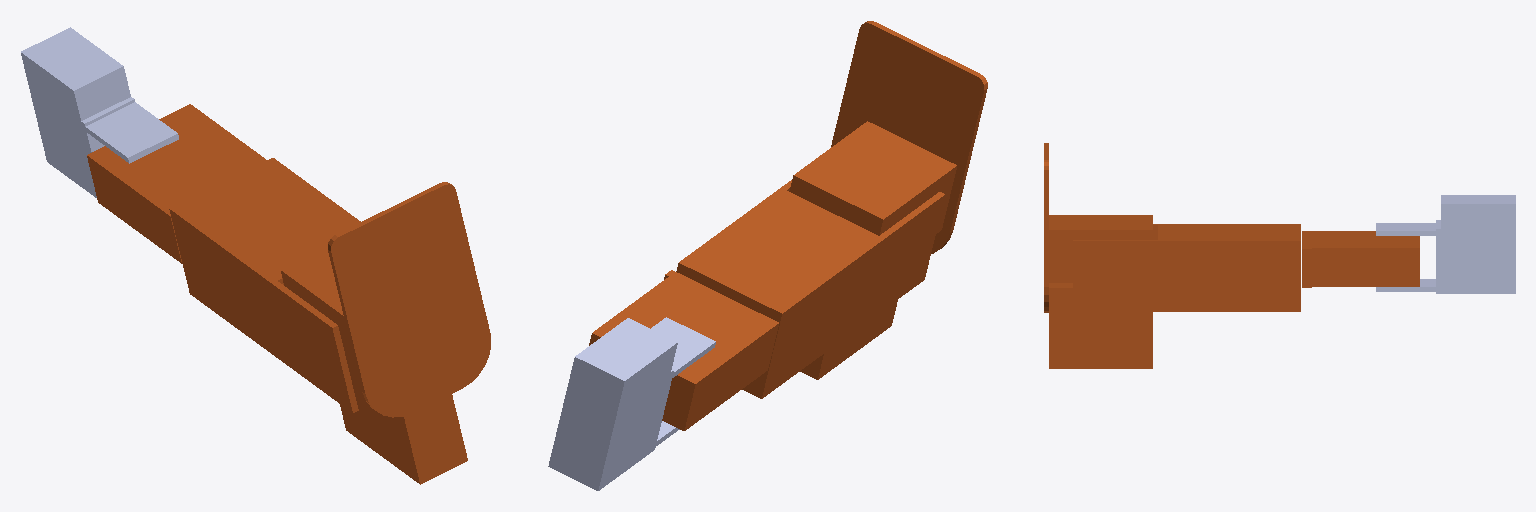
robot.urdf — Assem10_collision:
<?xml version="1.0" encoding="utf-8"?>
<!-- This URDF was automatically created by SolidWorks to URDF Exporter! Originally created by [author] ([email redacted]) 
     Commit Version: 1.6.0-4-g7f85cfe  Build Version: 1.6.7995.38578
     For more information, please see http://wiki.ros.org/sw_urdf_exporter -->
<robot
  name="Assem10_collision">
  <link
    name="base_link">
    <inertial>
      <origin
        xyz="-0.00605009249408056 0.264264543441302 0.0389219155545338"
        rpy="0 0 0" />
      <mass
        value="0.19587170304" />
      <inertia
        ixx="0.000117298247952399"
        ixy="1.39712888892882E-06"
        ixz="1.00957515737441E-05"
        iyy="6.67796077184977E-05"
        iyz="-5.8540741610949E-06"
        izz="7.74057409010267E-05" />
    </inertial>
    <visual>
      <origin
        xyz="0 0 0"
        rpy="0 0 0" />
      <geometry>
        <mesh
          filename="package://Assem10_collision/meshes/base_link.STL" />
      </geometry>
      <material
        name="">
        <color
          rgba="0.792156862745098 0.819607843137255 0.933333333333333 1" />
      </material>
    </visual>
    <collision>
      <origin
        xyz="0 0 0"
        rpy="0 0 0" />
      <geometry>
        <mesh
          filename="package://Assem10_collision/meshes/base_link.STL" />
      </geometry>
    </collision>
  </link>
  <link
    name="hip_Link">
    <inertial>
      <origin
        xyz="-0.00114557605052779 0.0220625073399884 0.00695392485978443"
        rpy="0 0 0" />
      <mass
        value="0.19587170304" />
      <inertia
        ixx="0.000117298247952399"
        ixy="1.39712888892882E-06"
        ixz="1.00957515737441E-05"
        iyy="6.67796077184977E-05"
        iyz="-5.85407416109491E-06"
        izz="7.74057409010267E-05" />
    </inertial>
    <visual>
      <origin
        xyz="0 0 0"
        rpy="0 0 0" />
      <geometry>
        <mesh
          filename="package://Assem10_collision/meshes/hip_Link.STL" />
      </geometry>
      <material
        name="">
        <color
          rgba="0.792156862745098 0.819607843137255 0.933333333333333 1" />
      </material>
    </visual>
    <collision>
      <origin
        xyz="0 0 0"
        rpy="0 0 0" />
      <geometry>
        <mesh
          filename="package://Assem10_collision/meshes/hip_Link.STL" />
      </geometry>
    </collision>
  </link>
  <joint
    name="hip_joint"
    type="revolute">
    <origin
      xyz="-0.00490451644355278 0.242202036101313 0.0319679906947494"
      rpy="0 0 0" />
    <parent
      link="base_link" />
    <child
      link="hip_Link" />
    <axis
      xyz="0 1 0" />
    <limit
      lower="-1.571"
      upper="1.571"
      effort="0.055"
      velocity="5.82" />
  </joint>
  <link
    name="thigh_Link">
    <inertial>
      <origin
        xyz="0.0261495186388976 -0.0198067217703598 0.00627730656543416"
        rpy="0 0 0" />
      <mass
        value="0.0994035000000124" />
      <inertia
        ixx="5.105531110474E-05"
        ixy="2.7455668402762E-07"
        ixz="-4.32165853073013E-06"
        iyy="2.94940062908488E-05"
        iyz="6.55254894874466E-08"
        izz="6.81319786664833E-05" />
    </inertial>
    <visual>
      <origin
        xyz="0 0 0"
        rpy="0 0 0" />
      <geometry>
        <mesh
          filename="package://Assem10_collision/meshes/thigh_Link.STL" />
      </geometry>
      <material
        name="">
        <color
          rgba="0.76078431372549 0.4 0.180392156862745 0.3" />
      </material>
    </visual>
    <collision>
      <origin
        xyz="0 0 0"
        rpy="0 0 0" />
      <geometry>
        <mesh
          filename="package://Assem10_collision/meshes/thigh_Link.STL" />
      </geometry>
    </collision>
  </link>
  <joint
    name="thigh_joint"
    type="revolute">
    <origin
      xyz="-0.018837938117524 -0.0273400000000003 -0.00447732756489142"
      rpy="0 0 0" />
    <parent
      link="hip_Link" />
    <child
      link="thigh_Link" />
    <axis
      xyz="0.97268246579192 0 0.232139657837584" />
    <limit
      lower="0"
      upper="1.0472"
      effort="0.055"
      velocity="5.82" />
  </joint>
  <link
    name="leg_Link">
    <inertial>
      <origin
        xyz="-0.0251596475541772 -0.0123177897353391 -0.0117160764491841"
        rpy="0 0 0" />
      <mass
        value="0.232589231399243" />
      <inertia
        ixx="0.000259439788496201"
        ixy="-3.07521141652448E-19"
        ixz="-5.2226417020026E-06"
        iyy="0.000101628555227277"
        iyz="-1.15095289138836E-19"
        izz="0.0002800766147297" />
    </inertial>
    <visual>
      <origin
        xyz="0 0 0"
        rpy="0 0 0" />
      <geometry>
        <mesh
          filename="package://Assem10_collision/meshes/leg_Link.STL" />
      </geometry>
      <material
        name="">
        <color
          rgba="0.76078431372549 0.4 0.180392156862745 0.3" />
      </material>
    </visual>
    <collision>
      <origin
        xyz="0 0 0"
        rpy="0 0 0" />
      <geometry>
        <mesh
          filename="package://Assem10_collision/meshes/leg_Link.STL" />
      </geometry>
    </collision>
  </link>
  <joint
    name="leg_joint"
    type="revolute">
    <origin
      xyz="0.0525166155100644 -0.0941100000000001 0.0125700578600222"
      rpy="0 0 0" />
    <parent
      link="thigh_Link" />
    <child
      link="leg_Link" />
    <axis
      xyz="0.97268246579192 0 0.232139657837584" />
    <limit
      lower="-0.523"
      upper="1.0472"
      effort="0.055"
      velocity="5.82" />
  </joint>
  <link
    name="foot1_Link">
    <inertial>
      <origin
        xyz="-0.0258158892683436 -0.00101344838147411 0.0155562121129952"
        rpy="0 0 0" />
      <mass
        value="0.122380765316662" />
      <inertia
        ixx="8.34219271731225E-05"
        ixy="2.72963463102564E-06"
        ixz="-1.17649912220833E-06"
        iyy="5.41780744582801E-05"
        iyz="7.98072725955848E-06"
        izz="8.0647826410963E-05" />
    </inertial>
    <visual>
      <origin
        xyz="0 0 0"
        rpy="0 0 0" />
      <geometry>
        <mesh
          filename="package://Assem10_collision/meshes/foot1_Link.STL" />
      </geometry>
      <material
        name="">
        <color
          rgba="0.76078431372549 0.4 0.180392156862745 0.3" />
      </material>
    </visual>
    <collision>
      <origin
        xyz="0 0 0"
        rpy="0 0 0" />
      <geometry>
        <mesh
          filename="package://Assem10_collision/meshes/foot1_Link.STL" />
      </geometry>
    </collision>
  </link>
  <joint
    name="foot1_joint"
    type="revolute">
    <origin
      xyz="0.00157547080421877 -0.0927520361013132 -0.00660134007651164"
      rpy="0 -0.234276857085508 0" />
    <parent
      link="leg_Link" />
    <child
      link="foot1_Link" />
    <axis
      xyz="1 0 0" />
    <limit
      lower="0"
      upper="0.523"
      effort="0.055"
      velocity="5.83" />
  </joint>
  <link
    name="foot2_Link">
    <inertial>
      <origin
        xyz="0.00292714476125744 0.00425203610131364 -0.0137082317087299"
        rpy="0 0 0" />
      <mass
        value="0.0845000000000001" />
      <inertia
        ixx="4.80027962059938E-05"
        ixy="-3.22815496642855E-20"
        ixz="3.30560060466208E-06"
        iyy="2.34417083333333E-05"
        iyz="-9.18162999687482E-20"
        izz="3.49409954606732E-05" />
    </inertial>
    <visual>
      <origin
        xyz="0 0 0"
        rpy="0 0 0" />
      <geometry>
        <mesh
          filename="package://Assem10_collision/meshes/foot2_Link.STL" />
      </geometry>
      <material
        name="">
        <color
          rgba="0.76078431372549 0.4 0.180392156862745 0.3" />
      </material>
    </visual>
    <collision>
      <origin
        xyz="0 0 0"
        rpy="0 0 0" />
      <geometry>
        <mesh
          filename="package://Assem10_collision/meshes/foot2_Link.STL" />
      </geometry>
    </collision>
  </link>
  <joint
    name="foot2_joint"
    type="revolute">
    <origin
      xyz="-0.017637305017043 -0.092752036101313 -0.0322623837192966"
      rpy="0 0 0" />
    <parent
      link="leg_Link" />
    <child
      link="foot2_Link" />
    <axis
      xyz="-0.232139657837584 0 0.97268246579192" />
    <limit
      lower="-1.57"
      upper="1.57"
      effort="0.055"
      velocity="5.83" />
  </joint>
</robot>

--- What the picture shows (computed from the rendered views, not written in the file) ---
Views: 3 orthographic renders of the robot side by side, from view 1: azimuth 30°, elevation 25°; view 2: azimuth 150°, elevation 25°; view 3: azimuth 270°, elevation 25°.
Model Assem10_collision with 6 links and 5 joints (5 revolute), rooted at base_link, posed all joints at 0.
Visible links, largest first — view 1: foot1_Link, leg_Link, base_link, thigh_Link, foot2_Link; view 2: leg_Link, foot1_Link, base_link, thigh_Link, foot2_Link; view 3: leg_Link, foot2_Link, thigh_Link, base_link, foot1_Link, hip_Link.
Boxes of the visible links, x1=… form: foot1_Link: x1=281, y1=182, x2=490, y2=417; leg_Link: x1=169, y1=158, x2=360, y2=412; base_link: x1=21, y1=27, x2=178, y2=197; thigh_Link: x1=87, y1=104, x2=266, y2=263; foot2_Link: x1=340, y1=374, x2=467, y2=484; leg_Link: x1=676, y1=180, x2=944, y2=398; foot1_Link: x1=789, y1=21, x2=987, y2=253; base_link: x1=548, y1=317, x2=715, y2=490; thigh_Link: x1=589, y1=270, x2=778, y2=430; foot2_Link: x1=800, y1=300, x2=897, y2=379; leg_Link: x1=1073, y1=224, x2=1300, y2=311; foot2_Link: x1=1049, y1=283, x2=1152, y2=368; thigh_Link: x1=1302, y1=231, x2=1419, y2=287; base_link: x1=1376, y1=195, x2=1515, y2=281; foot1_Link: x1=1044, y1=143, x2=1152, y2=312; hip_Link: x1=1376, y1=215, x2=1515, y2=293.
Size in the robot's own frame: 0.0812 by 0.2952 by 0.1436 metres.
Meshes: 6 distinct files referenced, 6 mesh visuals loaded (6 binary STL).